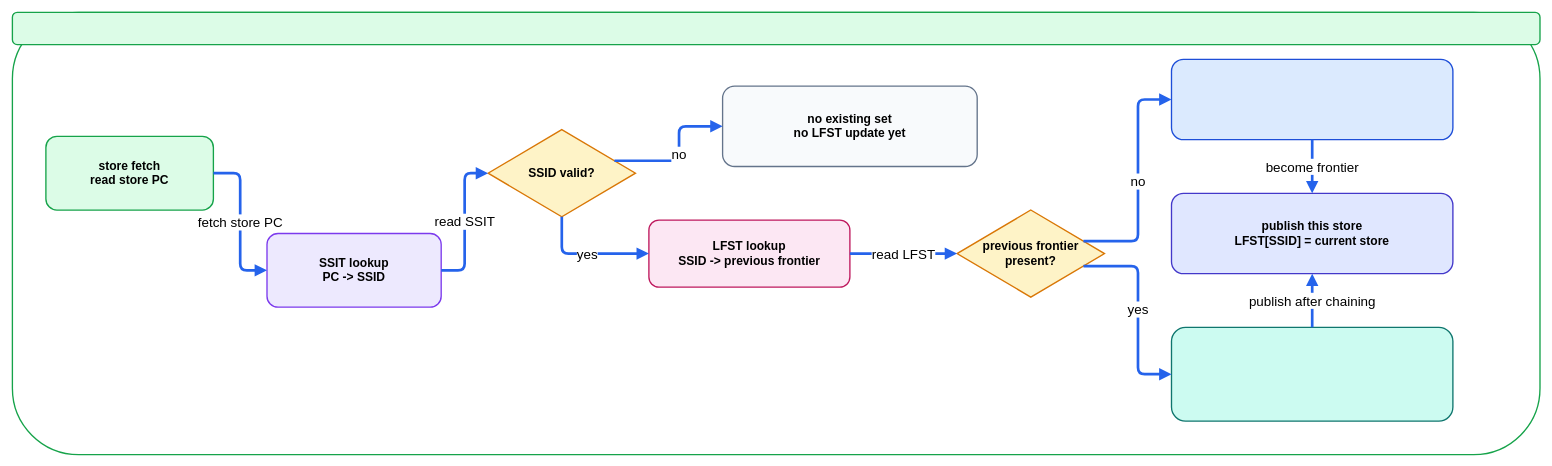
Some shapes in this 1552 by 466 pixel diagram are drawn without their labels. Each missing label, with the centre of its shape:
Fetch A Store: the point at 775,28
first store in this set no older frontier to chain behind: the point at 1311,99
store chain update remember previous frontier then wait behind that store: the point at 1311,373
